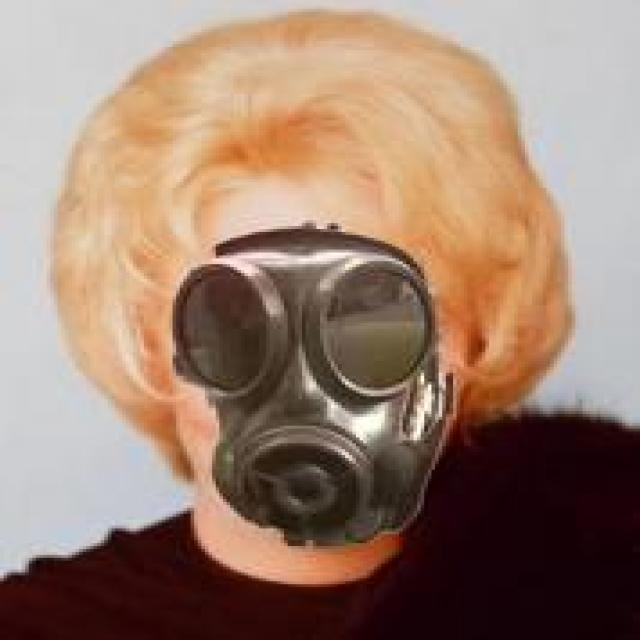mask: (97, 91, 532, 575)
